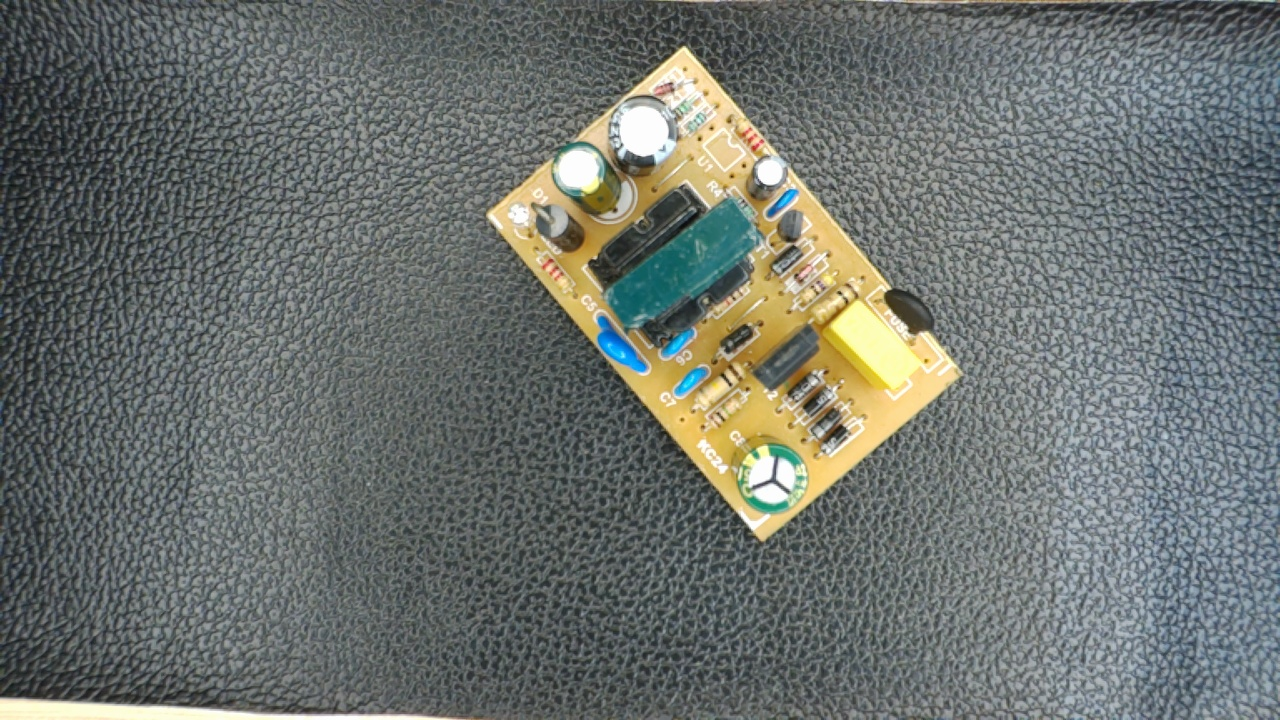fuse: (870, 285, 938, 350)
hv_capacitor: (728, 426, 812, 518)
mov: (587, 308, 656, 378)
